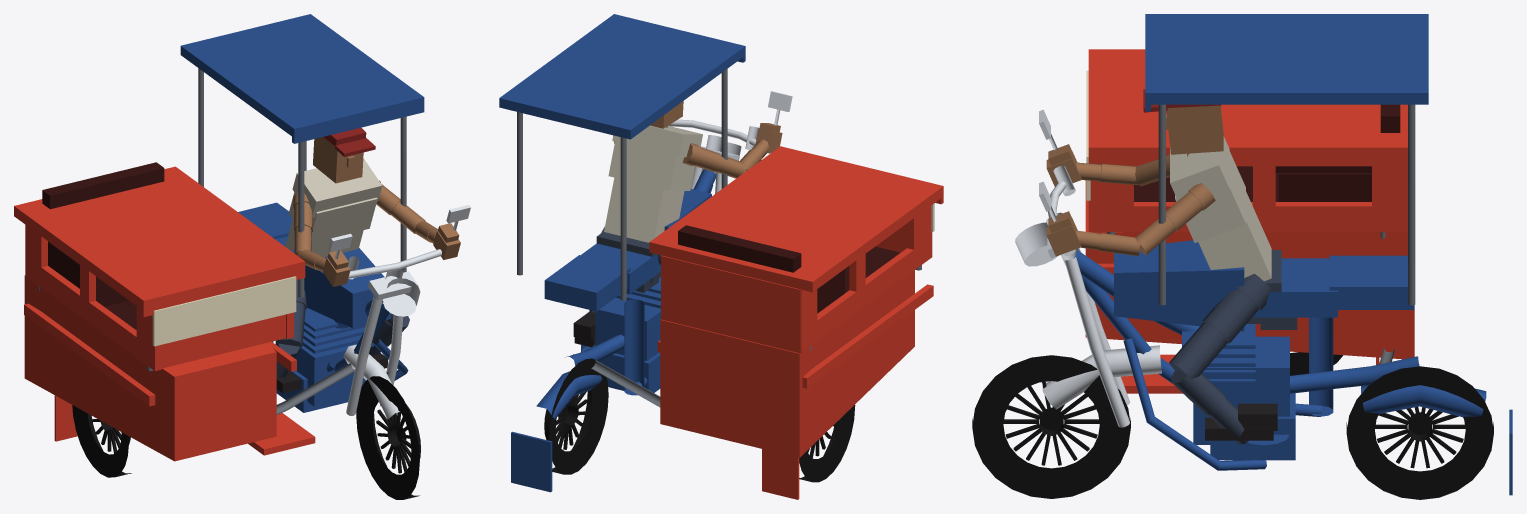
Rendered from traysikel.glb.
3 views of the same model, side by side, from view 1: azimuth 30°, elevation 25°; view 2: azimuth 150°, elevation 25°; view 3: azimuth 270°, elevation 25° (orthographic). The views are drawn at different scales.
Visible parts, largest first — view 1: SidecarBody, Roof_Sidecar, Roof_Bike, Body, Spin (×2), Fork, RouteBoard, Torso, SidecarSeat, SidecarFrame, Head, Arm_L (+5 smaller); view 2: SidecarBody, Roof_Sidecar, Roof_Bike, Body, Torso, Spin (×2), SidecarSeat, SidecarFrame, Fork, Arm_R, Pelvis, Shoe_L (+1 smaller); view 3: Body, Roof_Bike, Spin (×2), SidecarBody, Roof_Sidecar, Torso, Fork, SidecarSeat, Leg_L, SidecarFrame, Head, Leg_L_Lower (+8 smaller).
Boxes of the visible parts, x1=… form: SidecarBody: x1=24, y1=225, x2=315, y2=461; Roof_Sidecar: x1=14, y1=166, x2=305, y2=317; Roof_Bike: x1=180, y1=14, x2=424, y2=143; Body: x1=238, y1=202, x2=408, y2=412; Spin (×2): x1=72, y1=372, x2=420, y2=499; Fork: x1=343, y1=249, x2=441, y2=418; RouteBoard: x1=152, y1=276, x2=296, y2=346; Torso: x1=285, y1=158, x2=382, y2=256; SidecarSeat: x1=42, y1=162, x2=164, y2=329; SidecarFrame: x1=38, y1=68, x2=406, y2=414; Head: x1=313, y1=137, x2=363, y2=183; Arm_L: x1=376, y1=180, x2=425, y2=233; SidecarBody: x1=657, y1=206, x2=933, y2=499; Roof_Sidecar: x1=649, y1=146, x2=943, y2=292; Roof_Bike: x1=499, y1=14, x2=745, y2=139; Body: x1=511, y1=169, x2=716, y2=492; Torso: x1=604, y1=125, x2=702, y2=242; Spin (×2): x1=544, y1=354, x2=855, y2=482; SidecarSeat: x1=678, y1=225, x2=900, y2=313; SidecarFrame: x1=517, y1=69, x2=921, y2=407; Fork: x1=668, y1=119, x2=770, y2=193; Arm_R: x1=682, y1=143, x2=746, y2=178; Pelvis: x1=596, y1=231, x2=660, y2=292; Shoe_L: x1=573, y1=311, x2=595, y2=347; Body: x1=1073, y1=240, x2=1512, y2=495; Roof_Bike: x1=1145, y1=14, x2=1428, y2=111; Spin (×2): x1=972, y1=355, x2=1493, y2=499; SidecarBody: x1=1085, y1=160, x2=1414, y2=393; Roof_Sidecar: x1=1088, y1=49, x2=1407, y2=163; Torso: x1=1170, y1=136, x2=1271, y2=281; Fork: x1=1015, y1=165, x2=1161, y2=427; SidecarSeat: x1=1134, y1=104, x2=1400, y2=201; Leg_L: x1=1169, y1=273, x2=1270, y2=379; SidecarFrame: x1=1107, y1=104, x2=1415, y2=364; Head: x1=1166, y1=105, x2=1223, y2=156; Leg_L_Lower: x1=1171, y1=370, x2=1248, y2=444.
Size of the model in its own units: 1.56 by 1.71 by 1.91.
